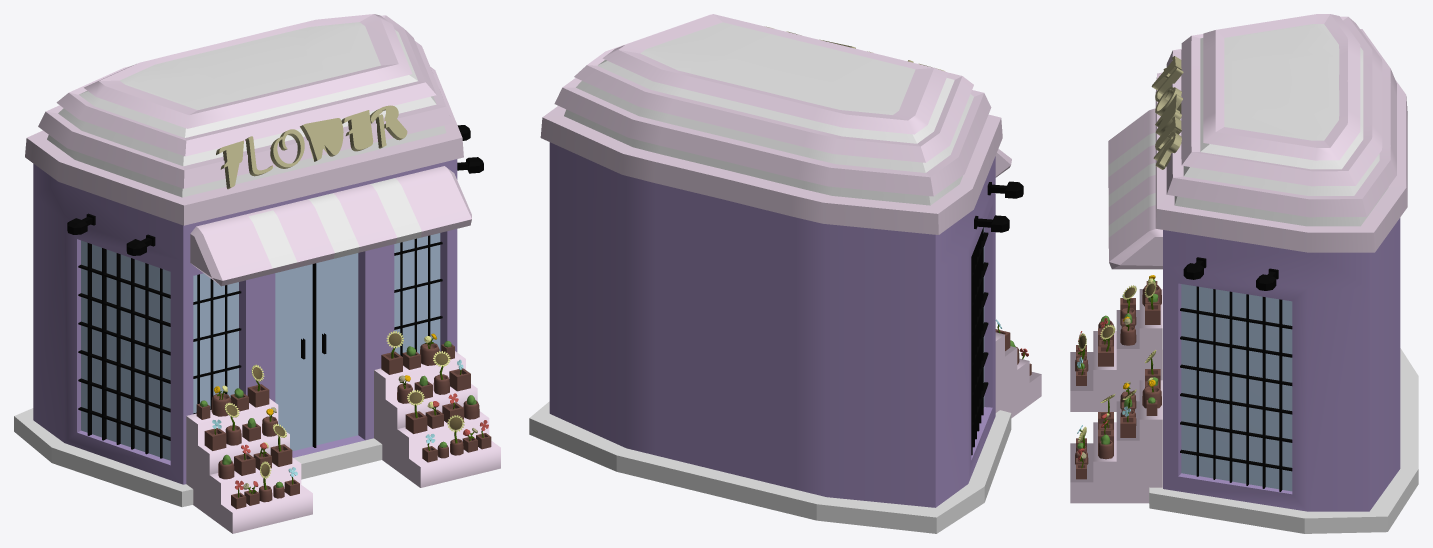
File: Flower_Shop.fbx
3 renders of one model, left to right at view 1: azimuth 30°, elevation 25°; view 2: azimuth 150°, elevation 25°; view 3: azimuth 270°, elevation 25°, orthographic. The views are drawn at different scales.
Visible parts, largest first — view 1: Shop, Glass, pCube333, Shelf, Bar_02, Flower_Shop, Bar_01, pCube336, Door, pCube347, pCube352, pCube343 (+3 smaller); view 2: Shop, Bar_02, Shelf, pCube336; view 3: Shop, Glass, Shelf, pCube333, Bar_02, Flower_Shop, pCube336, pCube352, pCube343, pCube347, pCube350, pCube344.
Boxes of the visible parts, x1,y1,x2,y2 form: Shop: (14, 14, 463, 507); Glass: (81, 233, 440, 460); pCube333: (190, 166, 471, 286); Shelf: (186, 351, 500, 533); Bar_02: (78, 243, 170, 458); Flower_Shop: (216, 105, 407, 189); Bar_01: (193, 235, 442, 413); pCube336: (67, 125, 483, 255); Door: (301, 263, 326, 447); pCube347: (204, 368, 470, 450); pCube352: (247, 351, 402, 407); pCube343: (270, 411, 427, 466); Shop: (529, 14, 1011, 533); Bar_02: (971, 227, 988, 455); Shelf: (995, 332, 1041, 418); pCube336: (974, 181, 1023, 232); Shop: (1149, 14, 1418, 533); Glass: (1181, 284, 1292, 491); Shelf: (1070, 289, 1162, 503); pCube333: (1108, 108, 1162, 269); Bar_02: (1180, 286, 1292, 491); Flower_Shop: (1151, 56, 1183, 169); pCube336: (1183, 257, 1278, 290); pCube352: (1145, 304, 1160, 389); pCube343: (1098, 346, 1113, 429); pCube347: (1120, 298, 1135, 437); pCube350: (1142, 285, 1161, 408); pCube344: (1120, 325, 1136, 409).
Bounding box in the file's own units: 281 × 240 × 212.
